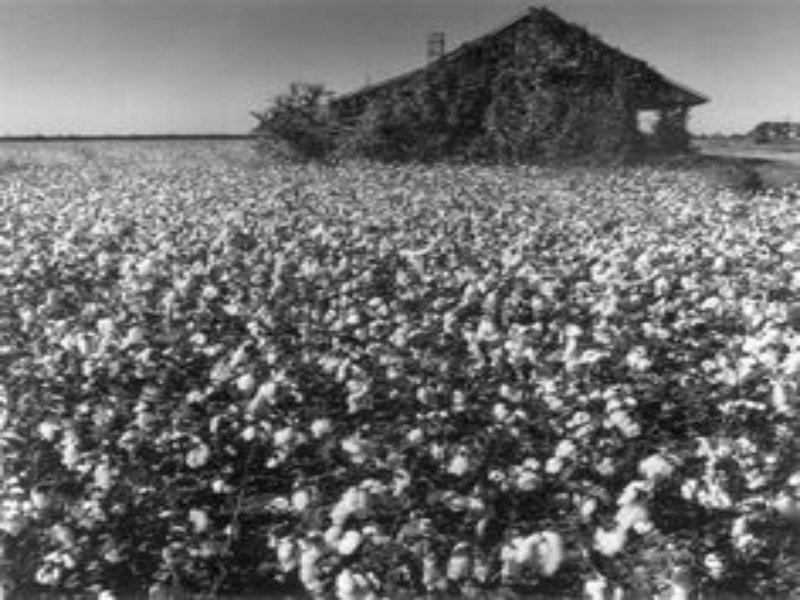cotton: (1, 176, 795, 596)
house: (265, 3, 722, 167)
